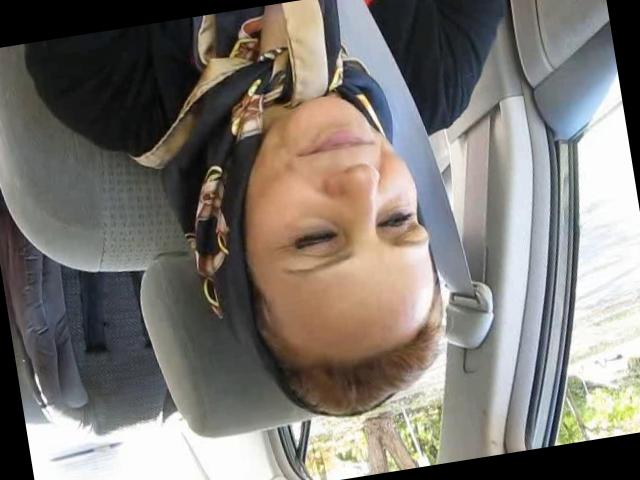eye_closed: (277, 220, 346, 260), (373, 204, 422, 237)
face: (224, 82, 438, 309)
